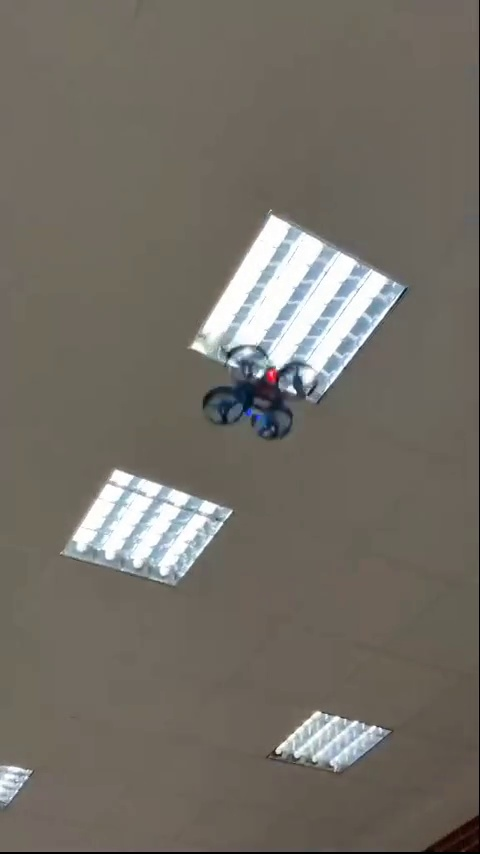drone: (210, 342, 318, 434)
